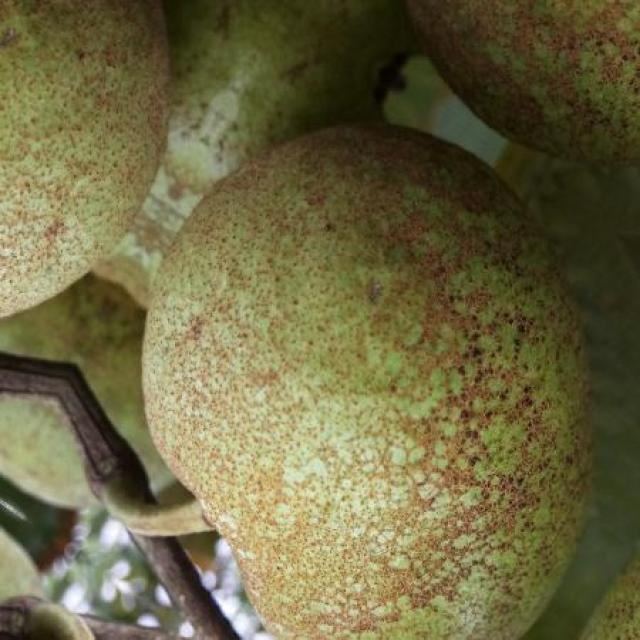Scab: (144, 125, 590, 640), (0, 0, 170, 316), (408, 0, 640, 161)
